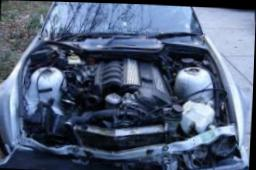Bonnet: (8, 36, 237, 152)
Light: (182, 127, 243, 170)
